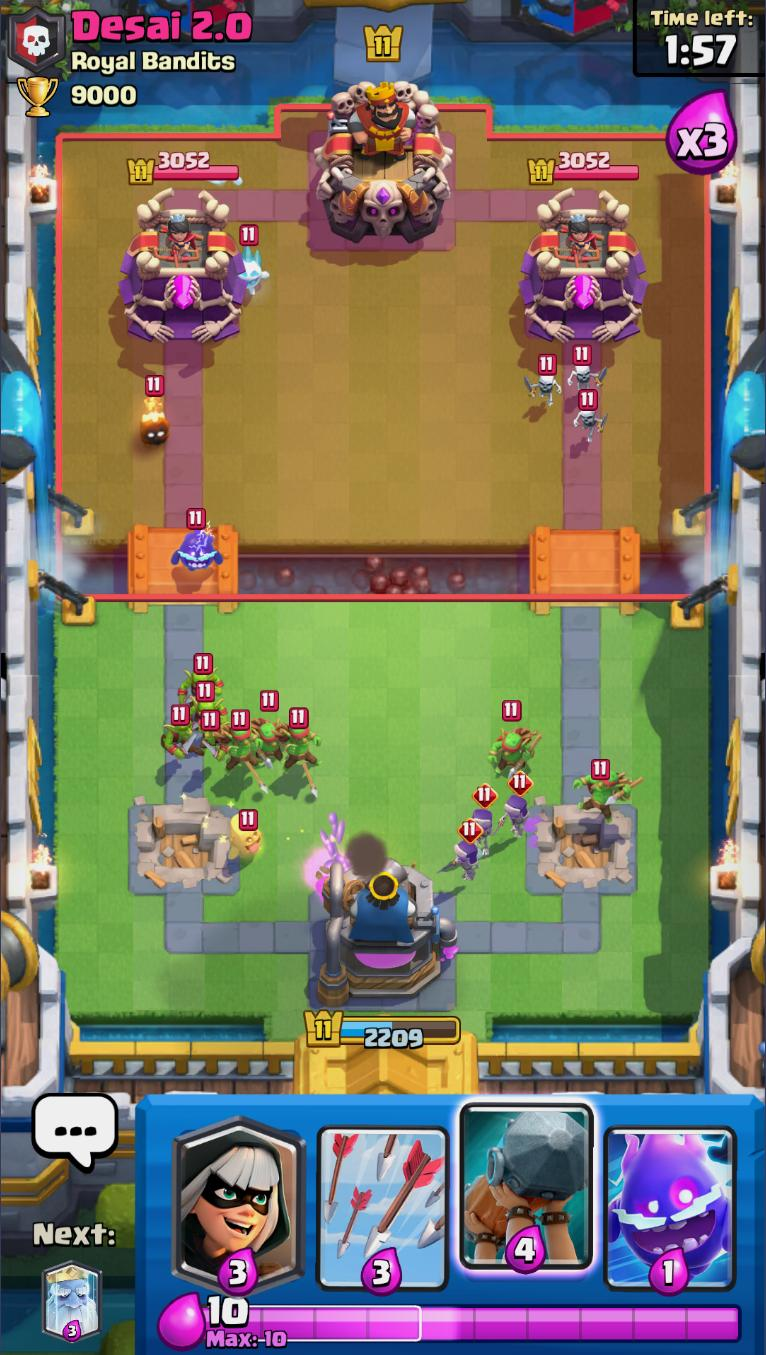ArrowDeck: (309, 1095, 458, 1296)
BanditDeck: (166, 1092, 313, 1295)
BattleRamDeck: (454, 1098, 600, 1294)
ElectroSpirit: (169, 506, 221, 576)
ElectroSpiritDeck: (595, 1095, 743, 1293)
Elixir: (202, 1296, 742, 1349)
EnemyTower: (122, 187, 250, 347), (520, 186, 648, 346)
EvoSkeleton: (502, 772, 536, 844), (452, 820, 483, 889), (469, 782, 499, 851)
FireSpirit: (136, 375, 173, 447)
Goblin: (156, 707, 201, 762), (179, 655, 222, 702), (184, 686, 227, 724), (192, 708, 225, 755)
HealSpirit: (224, 809, 264, 865)
IceSpirit: (237, 226, 271, 298)
KingTower: (315, 81, 455, 246)
MyKingHP: (301, 1007, 463, 1052)
MyKingTower: (302, 860, 461, 1009)
MyPrincessTowerBrocken: (522, 800, 643, 899), (124, 799, 242, 894)
PrincessTower: (555, 213, 605, 267), (155, 215, 207, 265)
RoyaleGhostNext: (41, 1260, 103, 1344)
Skeleton: (526, 352, 562, 409), (569, 345, 604, 396), (574, 391, 602, 442)
SpearGoblin: (577, 760, 630, 837), (491, 705, 544, 781), (214, 708, 259, 781), (279, 707, 319, 787), (246, 691, 289, 763)
TowerPrincessHP: (524, 151, 641, 187), (128, 153, 242, 187)
